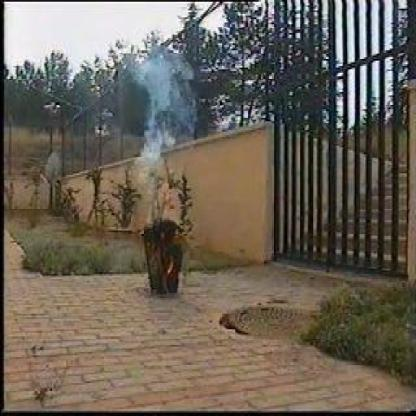-: (137, 57, 188, 175)
